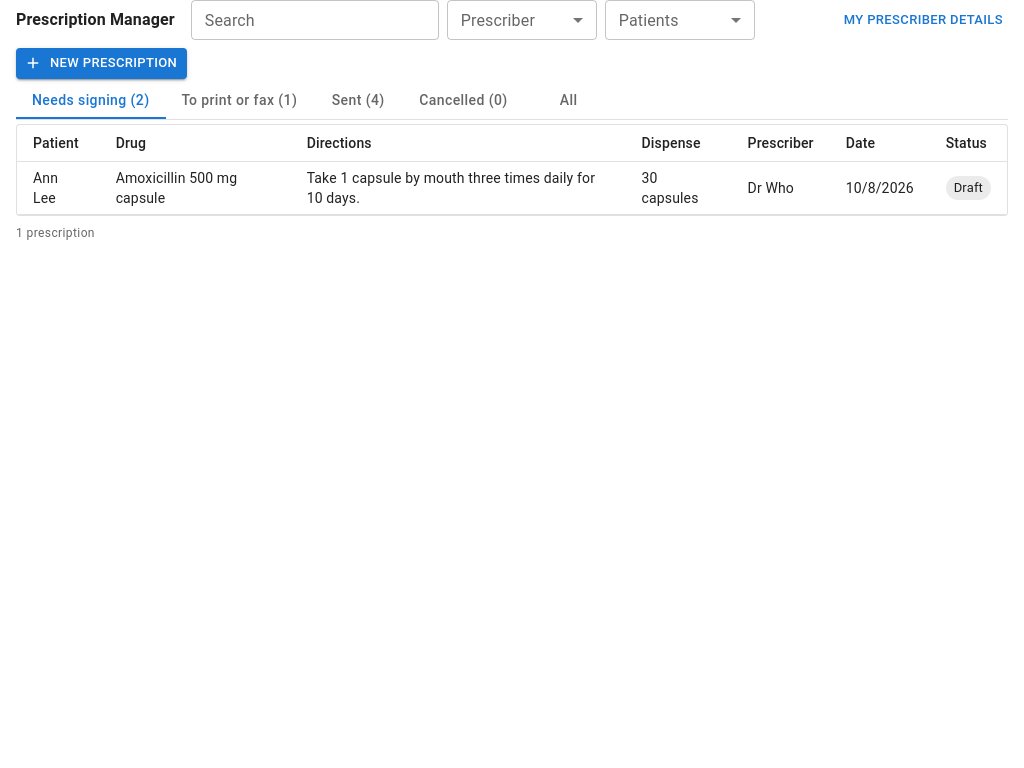
Test: New prescription asks who it is for, then opens the writer for that patient
Check: the row with test id "rx-row-11" is shown, box x1=17 y1=161 x2=1007 y2=214
Click the button with test id "rx-new". click: (102, 63)
box: x1=16 y1=48 x2=187 y2=79
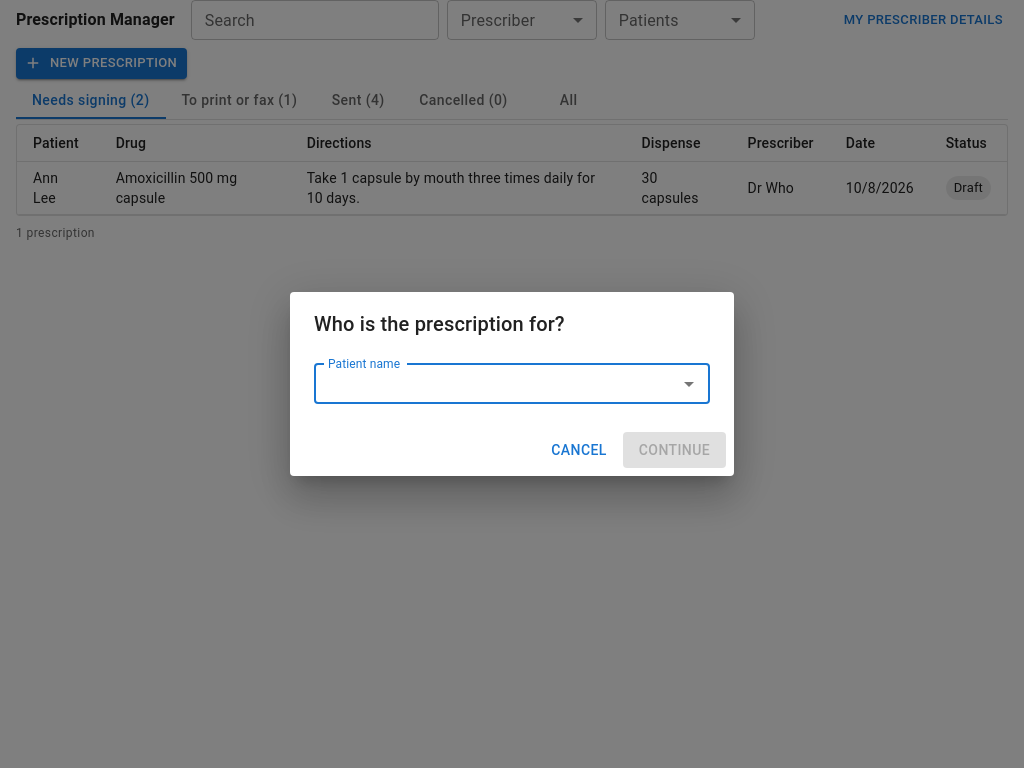
Type "Ann" into the dropdown with test id "rx-patient-search". click: (496, 384)
box: x1=320 y1=370 x2=671 y2=398
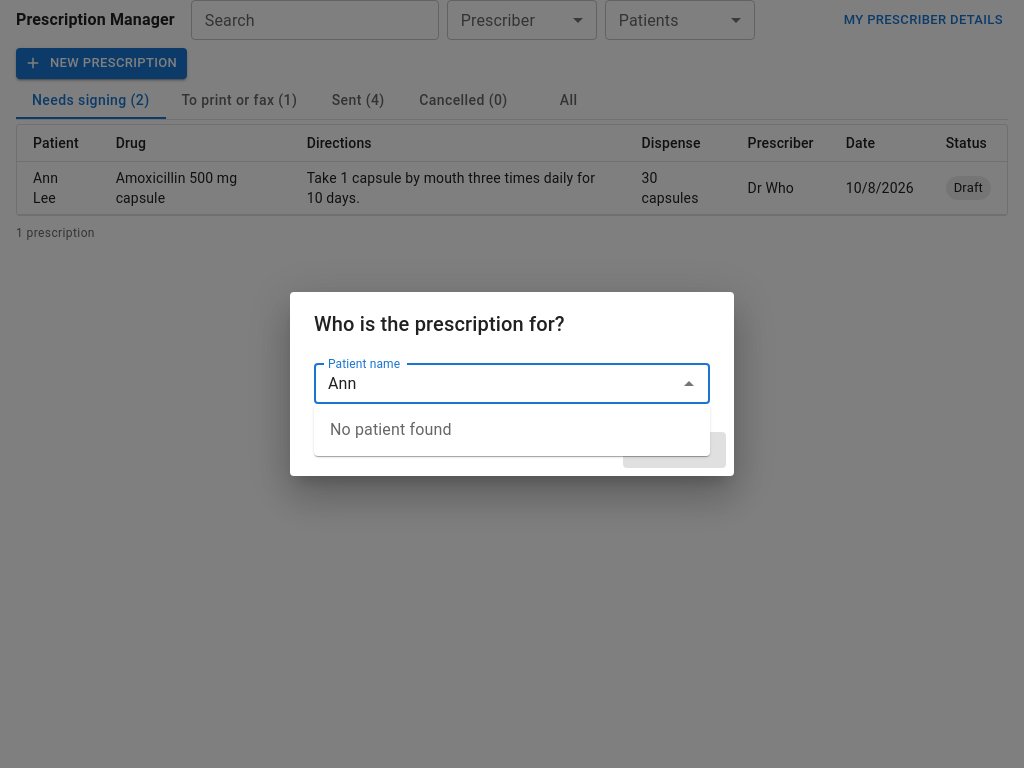
Press ArrowDown in the dropdown with test id "rx-patient-search", box x1=320 y1=370 x2=671 y2=398
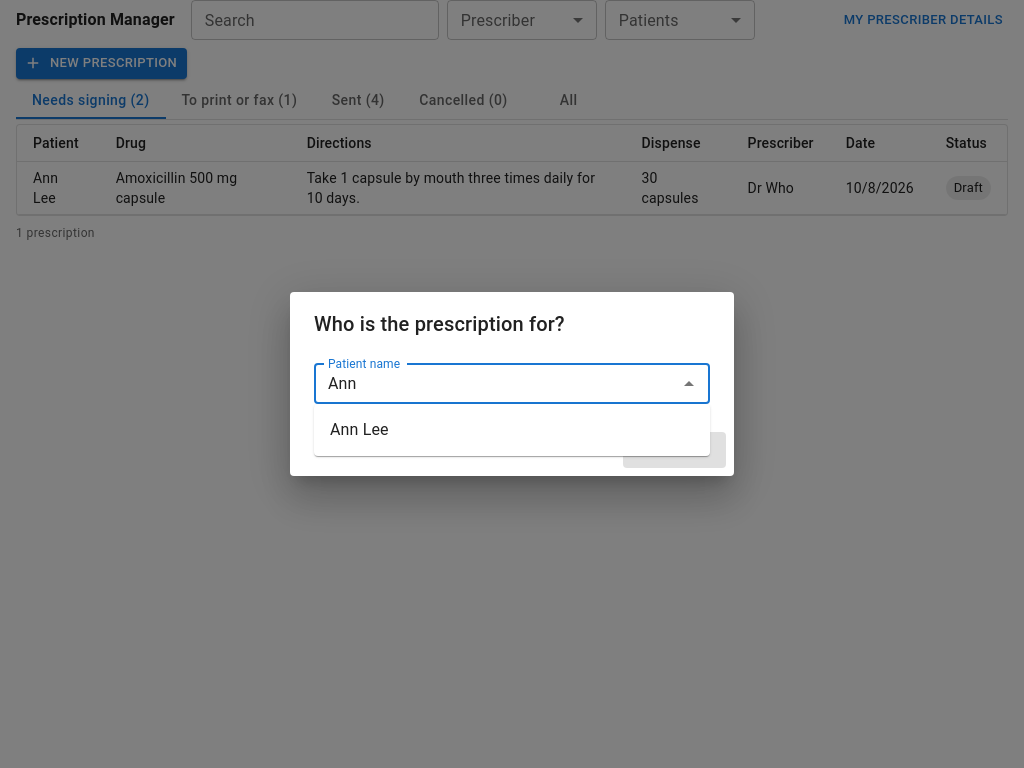
Click the option "Ann Lee". click: (359, 430)
box: x1=330 y1=420 x2=389 y2=439
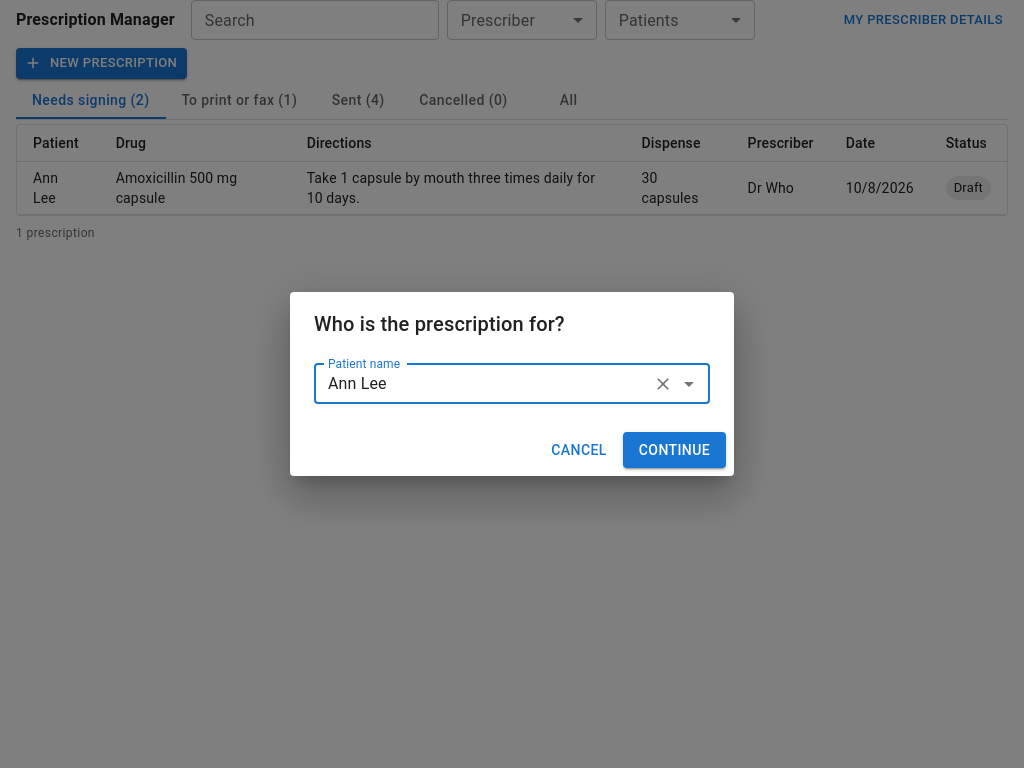
Click the button with test id "rx-patient-continue". click: (674, 450)
box: x1=623 y1=432 x2=726 y2=468
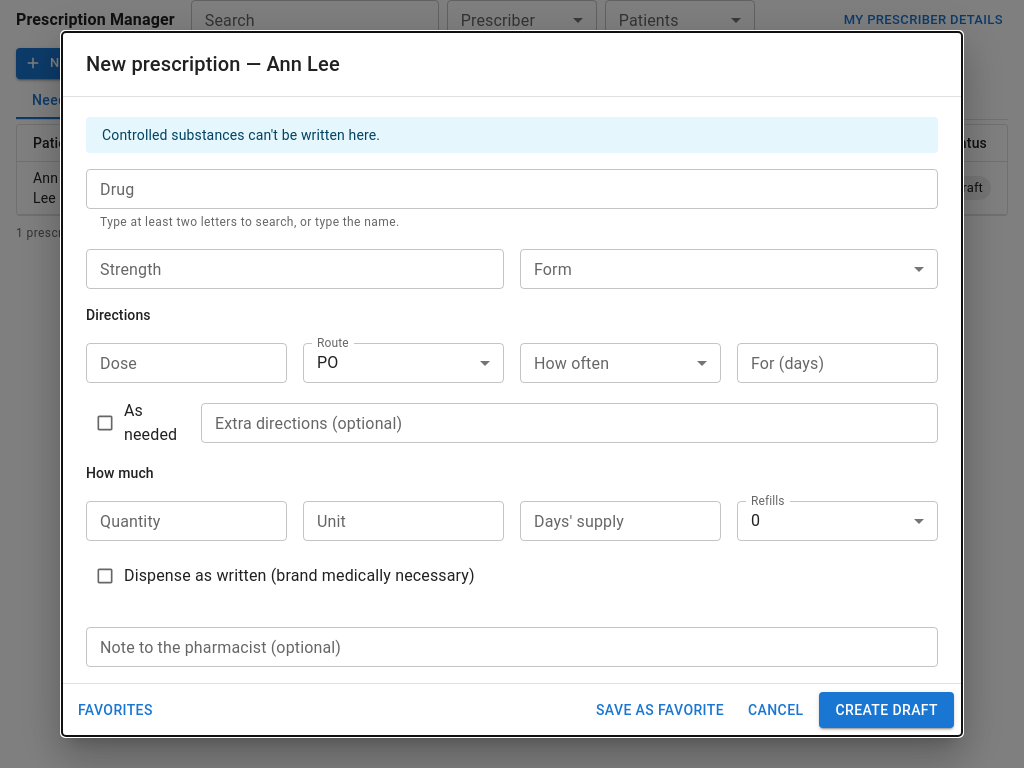
Check: the heading "New prescription — Ann Lee" is shown, box x1=86 y1=52 x2=340 y2=76
